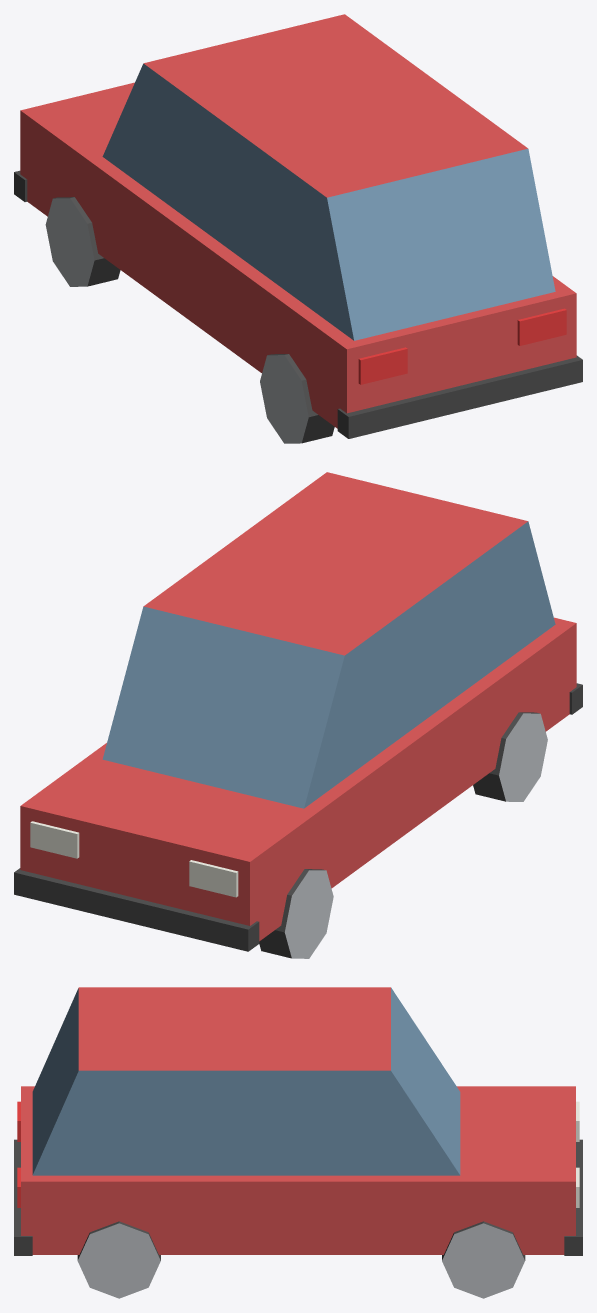
Rendered from car_van.glb.
3 renders of one model, top to bottom at view 1: azimuth 30°, elevation 25°; view 2: azimuth 150°, elevation 25°; view 3: azimuth 270°, elevation 25°, orthographic. The views are drawn at different scales.
Parts seen in each view (by area): view 1: car_van; view 2: car_van; view 3: car_van.
Part boxes in pixels (x1,y1,x2,y2): car_van: [14, 14, 582, 443]; car_van: [14, 472, 582, 958]; car_van: [14, 987, 582, 1298].
Bounding box in the file's own units: 2.03 × 2.1 × 4.92.
